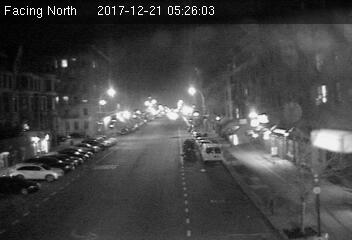truck: (200, 144, 223, 165)
